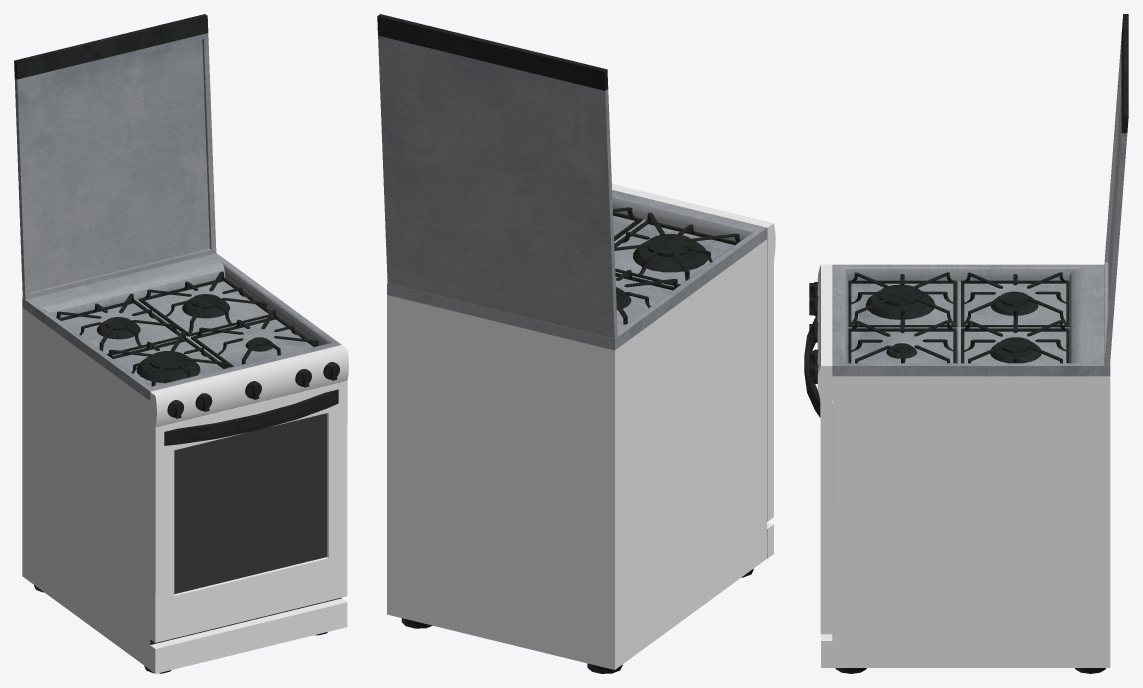
The model's file is stove.glb.
The picture shows the model from 3 angles, left to right: view 1: azimuth 30°, elevation 25°; view 2: azimuth 150°, elevation 25°; view 3: azimuth 270°, elevation 25°; orthographic projection. The views are drawn at different scales.
Parts seen in each view (by area): view 1: stove.001, Plane.221, Cube.193, Cube.191, Cube.192, Cube.190, Cube.090, Cube.189, Cube.188, Sphere.022, Cube.185, Sphere.020 (+1 smaller); view 2: stove.001, Plane.221, Sphere.022, Cube.185, Cube.193, Cube.191, Cube.189; view 3: stove.001, Plane.221, Cube.193, Cube.191, Cube.185, Cube.189, Sphere.022, Cube.090, Cube.188, Sphere.020, Sphere.019, Cube.190.
Part boxes in pixels (x1=…): stove.001: x1=22, y1=253, x2=341, y2=669; Plane.221: x1=14, y1=14, x2=216, y2=299; Cube.193: x1=150, y1=381, x2=347, y2=642; Cube.191: x1=150, y1=345, x2=348, y2=427; Cube.192: x1=150, y1=598, x2=347, y2=673; Cube.190: x1=164, y1=389, x2=338, y2=445; Cube.090: x1=139, y1=271, x2=271, y2=336; Cube.189: x1=56, y1=293, x2=180, y2=355; Cube.188: x1=191, y1=309, x2=318, y2=367; Sphere.022: x1=136, y1=351, x2=200, y2=383; Cube.185: x1=108, y1=331, x2=228, y2=386; Sphere.020: x1=182, y1=294, x2=229, y2=318; stove.001: x1=387, y1=190, x2=766, y2=669; Plane.221: x1=377, y1=14, x2=617, y2=338; Sphere.022: x1=633, y1=234, x2=707, y2=272; Cube.185: x1=614, y1=212, x2=740, y2=285; Cube.193: x1=767, y1=261, x2=773, y2=521; Cube.191: x1=612, y1=184, x2=775, y2=265; Cube.189: x1=615, y1=269, x2=678, y2=324; stove.001: x1=832, y1=264, x2=1110, y2=667; Plane.221: x1=1104, y1=14, x2=1128, y2=365; Cube.193: x1=820, y1=400, x2=832, y2=634; Cube.191: x1=817, y1=264, x2=832, y2=400; Cube.185: x1=848, y1=272, x2=956, y2=327; Cube.189: x1=961, y1=272, x2=1069, y2=327; Sphere.022: x1=865, y1=284, x2=935, y2=319; Cube.090: x1=961, y1=320, x2=1069, y2=363; Cube.188: x1=848, y1=320, x2=956, y2=363; Sphere.020: x1=990, y1=337, x2=1041, y2=363; Sphere.019: x1=990, y1=291, x2=1038, y2=315; Cube.190: x1=804, y1=316, x2=820, y2=417.
Bounding box in the file's own units: 1.05 × 2.71 × 1.42.
Materials: 6 (4 with a texture image).
